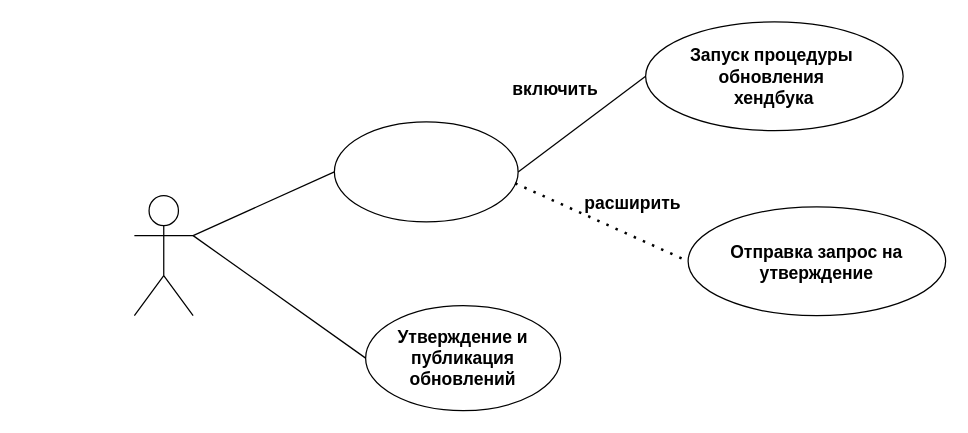
The diagram is 968 pixels wide and 433 high, and some of its shapes have lost their labels. The shapes that lost their labels are listed below. From the top down, each one's box as (x1, y1, x2, y2) in pixels, then its label:
(333, 121, 518, 222): Обновление информации в хендбуках
(133, 194, 193, 316): Администраторы, ответственные за обновление хендбуков
